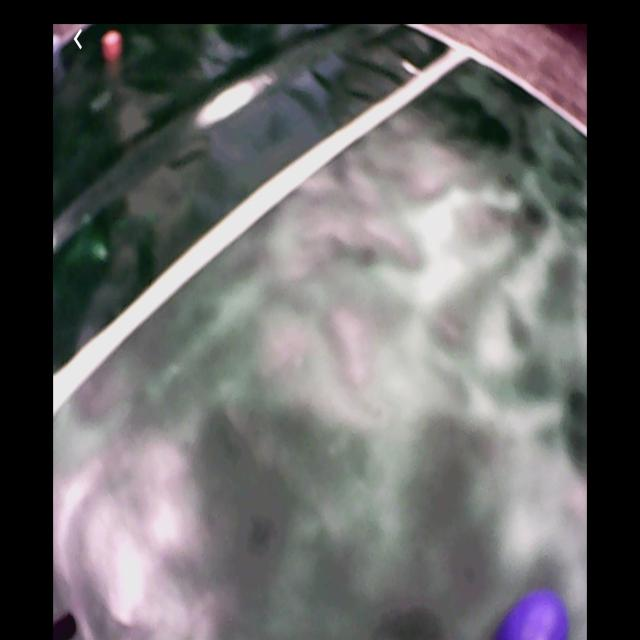ball: (498, 593, 570, 640)
